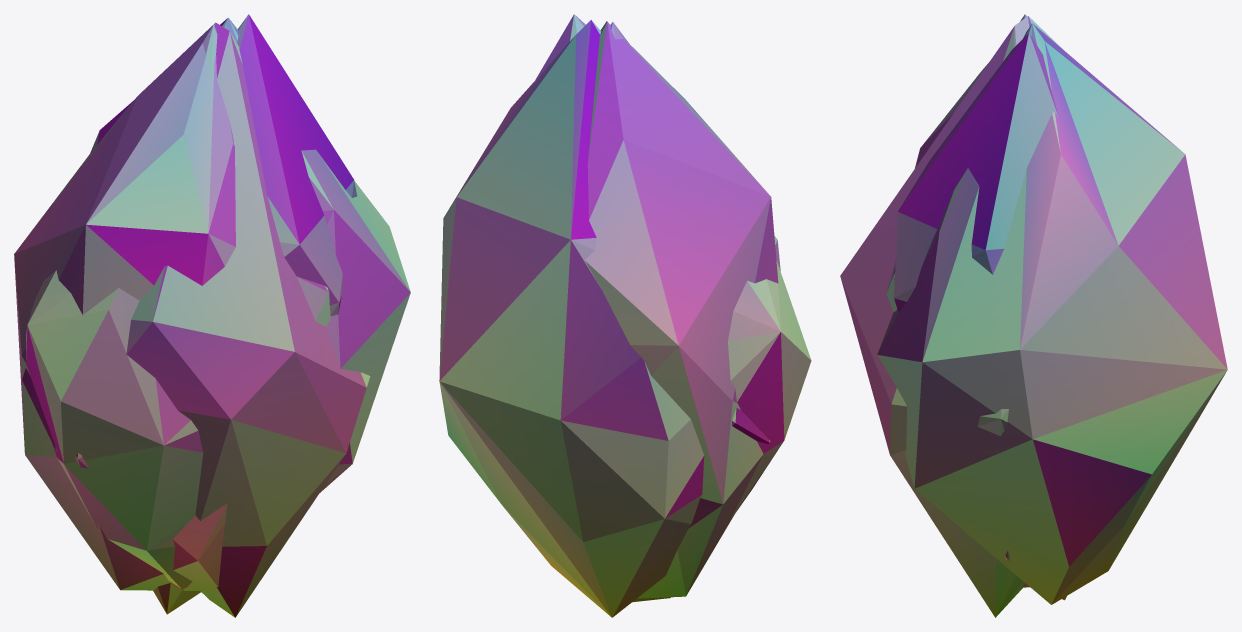
File: amethyst_stones.glb
3 views of the same model, side by side, from view 1: azimuth 30°, elevation 25°; view 2: azimuth 150°, elevation 25°; view 3: azimuth 270°, elevation 25° (orthographic). The views are drawn at different scales.
Visible parts, largest first — view 1: Amethyst_E, Amethyst_A, Amethyst_C, Amethyst_D, Amethyst_B; view 2: Amethyst_C, Amethyst_A, Amethyst_E, Amethyst_D; view 3: Amethyst_C, Amethyst_D, Amethyst_E, Amethyst_A.
Boxes of the visible parts, left/top/right/bottom form: Amethyst_E: left=22, top=23, right=370, bottom=617; Amethyst_A: left=14, top=22, right=330, bottom=591; Amethyst_C: left=26, top=17, right=410, bottom=588; Amethyst_D: left=237, top=14, right=357, bottom=315; Amethyst_B: left=153, top=25, right=217, bottom=614; Amethyst_C: left=439, top=20, right=811, bottom=617; Amethyst_A: left=584, top=22, right=778, bottom=598; Amethyst_E: left=600, top=21, right=780, bottom=444; Amethyst_D: left=532, top=14, right=585, bottom=85; Amethyst_C: left=877, top=23, right=1227, bottom=604; Amethyst_D: left=894, top=33, right=1058, bottom=312; Amethyst_E: left=840, top=16, right=1029, bottom=617; Amethyst_A: left=886, top=16, right=1066, bottom=600.
Size of the model in its own units: 0.6917 by 1.1 by 0.6437.
